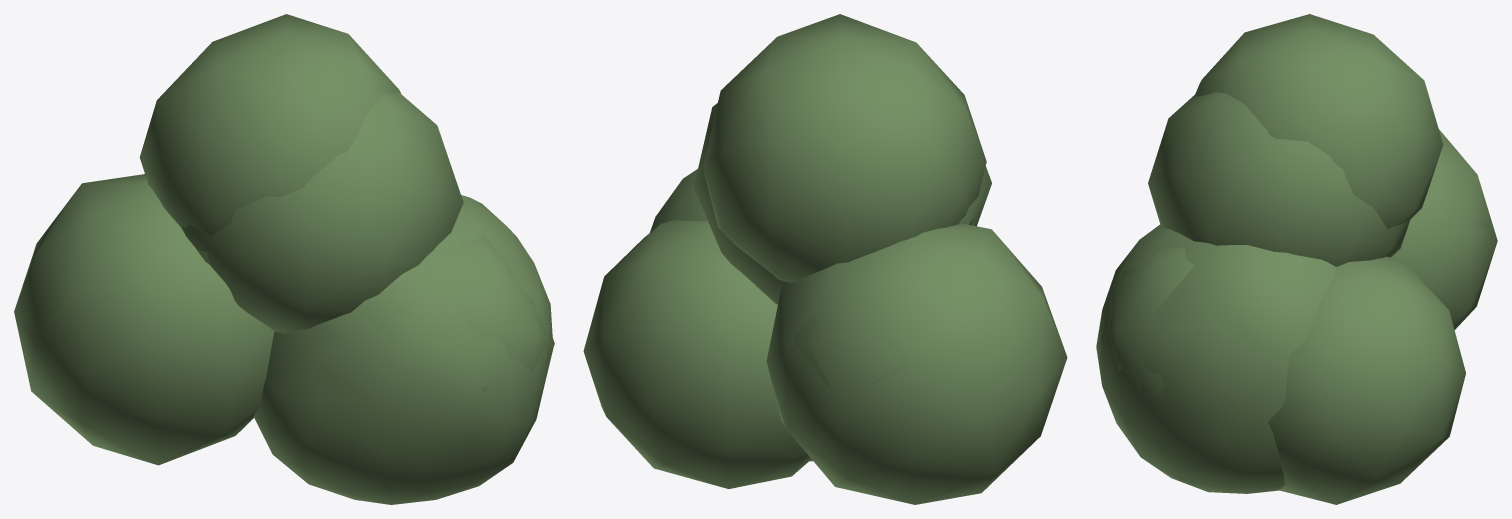
The model's file is NPR_07_1021__MOD__VegetationElements__Shrubs__ShrubRose__Var-01__.glb.
3 renders of one model, left to right at view 1: azimuth 30°, elevation 25°; view 2: azimuth 150°, elevation 25°; view 3: azimuth 270°, elevation 25°, orthographic. The views are drawn at different scales.
Parts seen in each view (by area): view 1: NPR_07_1021__MOD__VegetationElements__Shrubs__ShrubRose__Var; view 2: NPR_07_1021__MOD__VegetationElements__Shrubs__ShrubRose__Var; view 3: NPR_07_1021__MOD__VegetationElements__Shrubs__ShrubRose__Var.
Part boxes in pixels (left/top/right/bottom): NPR_07_1021__MOD__VegetationElements__Shrubs__ShrubRose__Var: left=14, top=14, right=554, bottom=504; NPR_07_1021__MOD__VegetationElements__Shrubs__ShrubRose__Var: left=583, top=14, right=1067, bottom=504; NPR_07_1021__MOD__VegetationElements__Shrubs__ShrubRose__Var: left=1096, top=14, right=1497, bottom=504.
Size of the model in its own units: 0.9768 by 0.952 by 0.8239.
